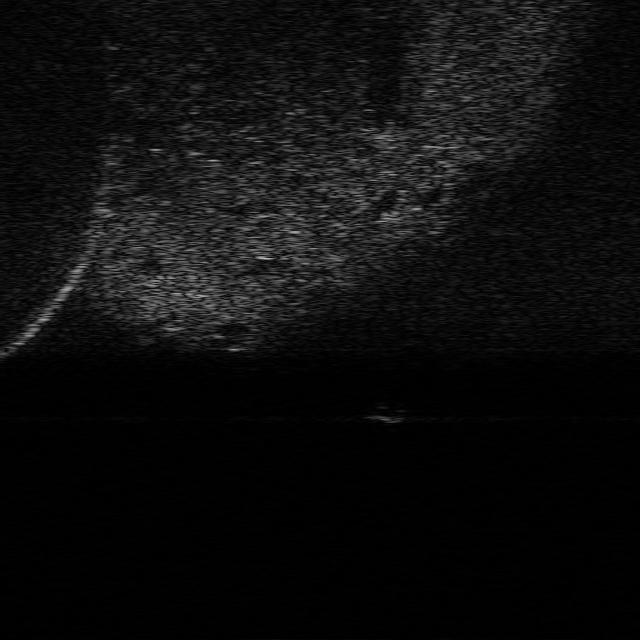cube: (364, 396, 410, 424)
